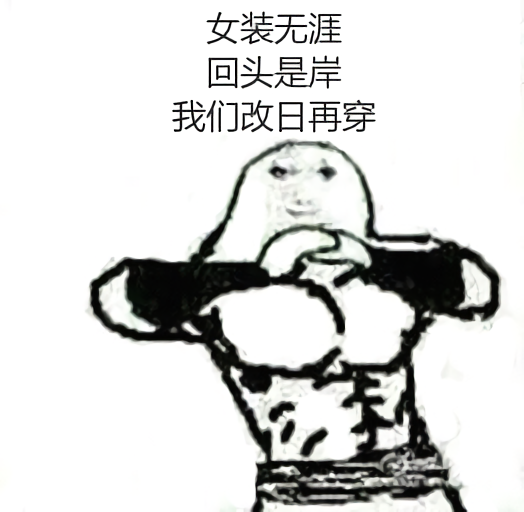dragon: (264, 160, 339, 219)
